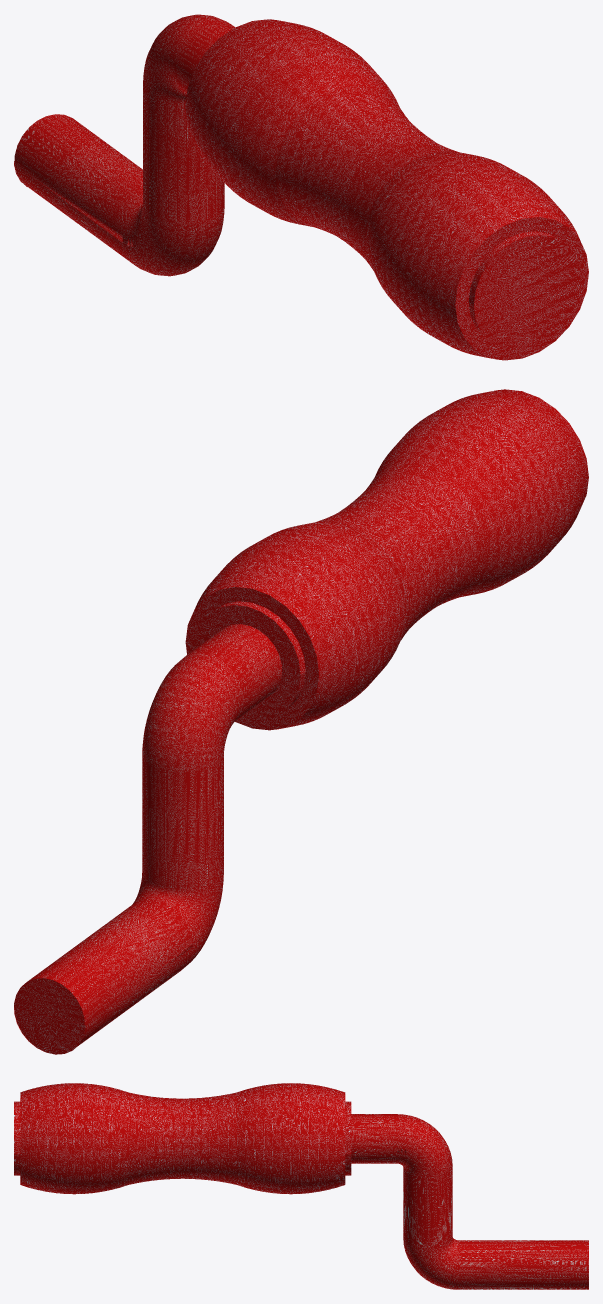
The model's file is Cr.A.N.K.E's cranky crank.dae.
3 views of the same model, one above another, from view 1: azimuth 30°, elevation 25°; view 2: azimuth 150°, elevation 25°; view 3: azimuth 270°, elevation 25° (orthographic). The views are drawn at different scales.
Visible parts, largest first — view 1: SketchUp_001, SketchUp, SketchUp_005; view 2: SketchUp_001, SketchUp, SketchUp_004, SketchUp_007; view 3: SketchUp_001, SketchUp, SketchUp_004, SketchUp_005.
Boxes of the visible parts, x1=… form: SketchUp_001: x1=185, y1=19, x2=588, y2=360; SketchUp: x1=14, y1=14, x2=234, y2=276; SketchUp_005: x1=468, y1=231, x2=580, y2=349; SketchUp_001: x1=185, y1=389, x2=588, y2=730; SketchUp: x1=14, y1=624, x2=281, y2=1051; SketchUp_004: x1=193, y1=601, x2=305, y2=719; SketchUp_007: x1=14, y1=1008, x2=85, y2=1054; SketchUp_001: x1=20, y1=1083, x2=345, y2=1194; SketchUp: x1=351, y1=1114, x2=588, y2=1289; SketchUp_004: x1=345, y1=1101, x2=351, y2=1175; SketchUp_005: x1=14, y1=1101, x2=20, y2=1175.
Size of the model in its own units: 0.36 by 1.86 by 0.7096.
